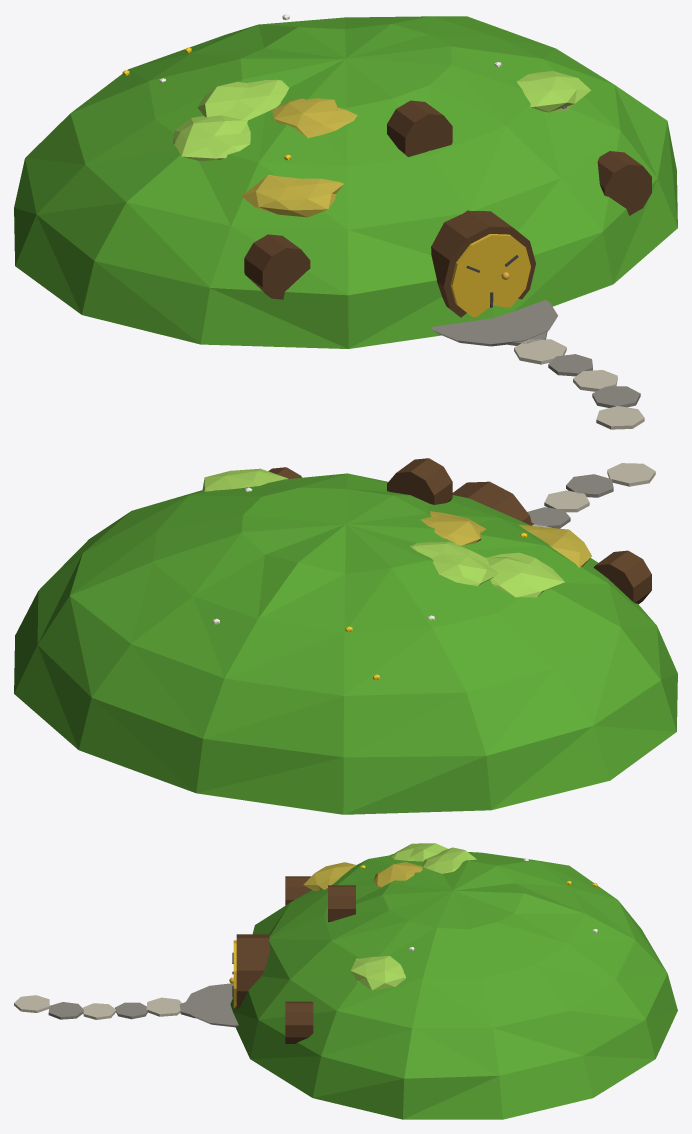
File: hobbit_hole_3.glb
The picture shows the model from 3 angles, top to bottom: view 1: azimuth 30°, elevation 25°; view 2: azimuth 150°, elevation 25°; view 3: azimuth 270°, elevation 25°; orthographic projection. The views are drawn at different scales.
Visible parts, largest first — view 1: hobbit_hole_3; view 2: hobbit_hole_3; view 3: hobbit_hole_3.
Part boxes in pixels (x1=…): hobbit_hole_3: x1=14, y1=14, x2=677, y2=429; hobbit_hole_3: x1=14, y1=458, x2=677, y2=814; hobbit_hole_3: x1=14, y1=843, x2=677, y2=1119.
Size of what is drawn, in the model's own units: 14.82 by 3.92 by 19.06.
